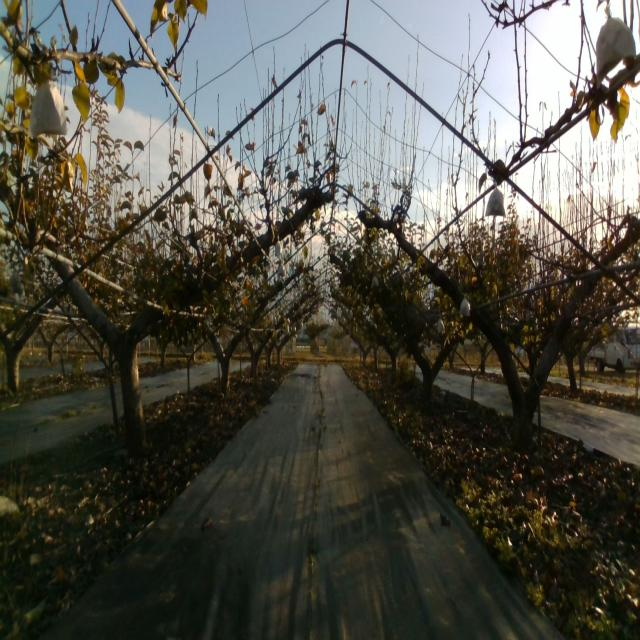pearbags: (594, 3, 636, 88), (27, 81, 66, 138), (485, 182, 506, 216), (458, 294, 471, 318)
